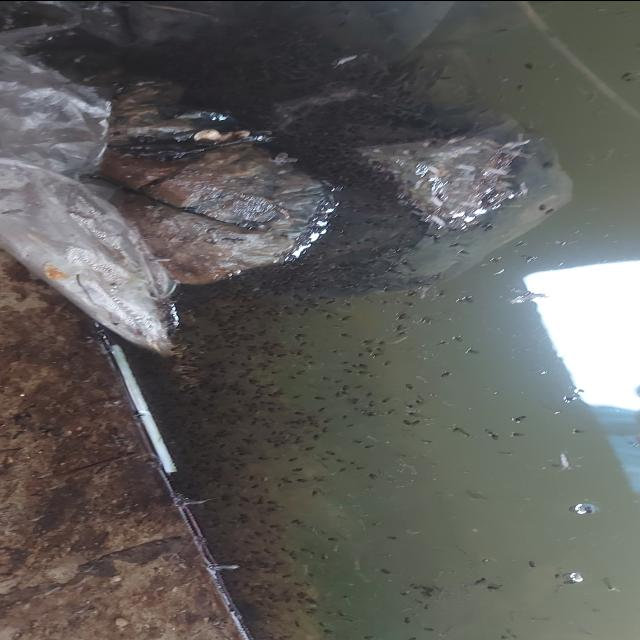Breeding Place: (129, 0, 640, 640)
